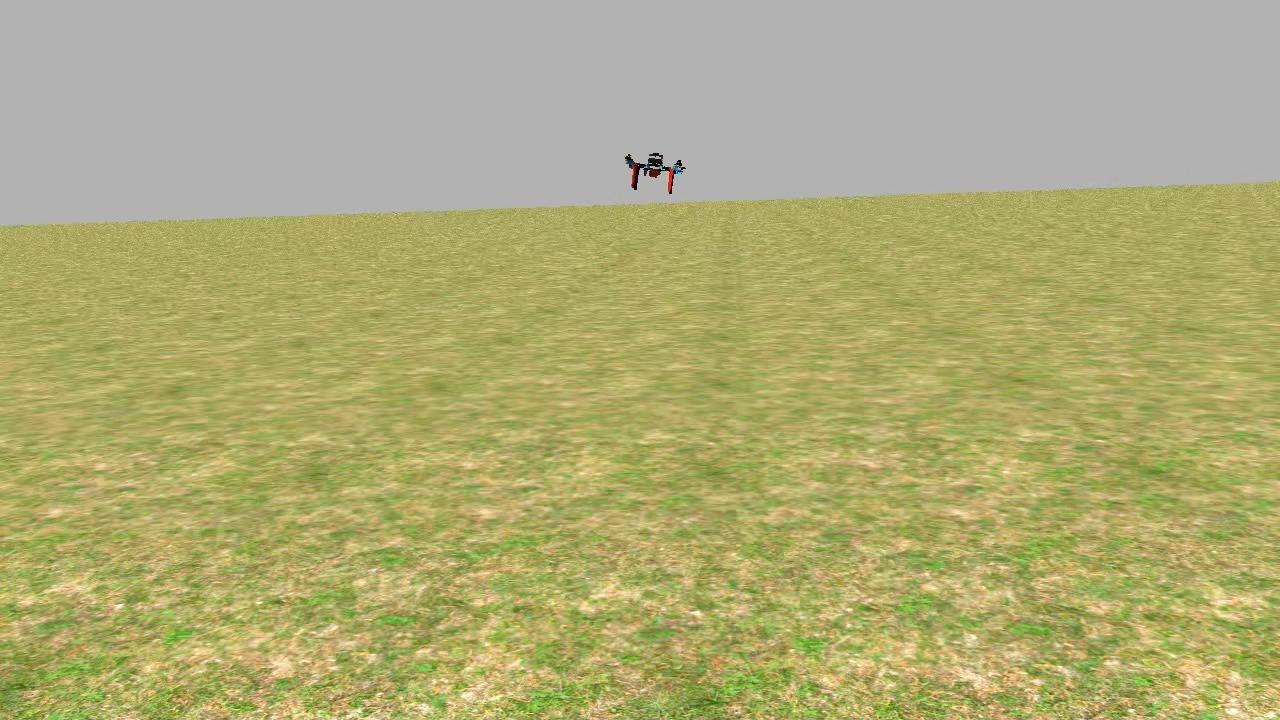UAV: (615, 146, 701, 199)
